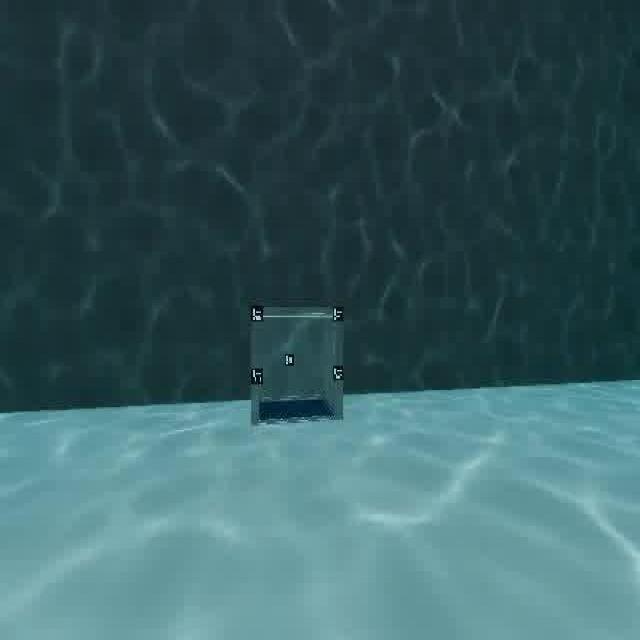Docking Station: (246, 290, 350, 434)
